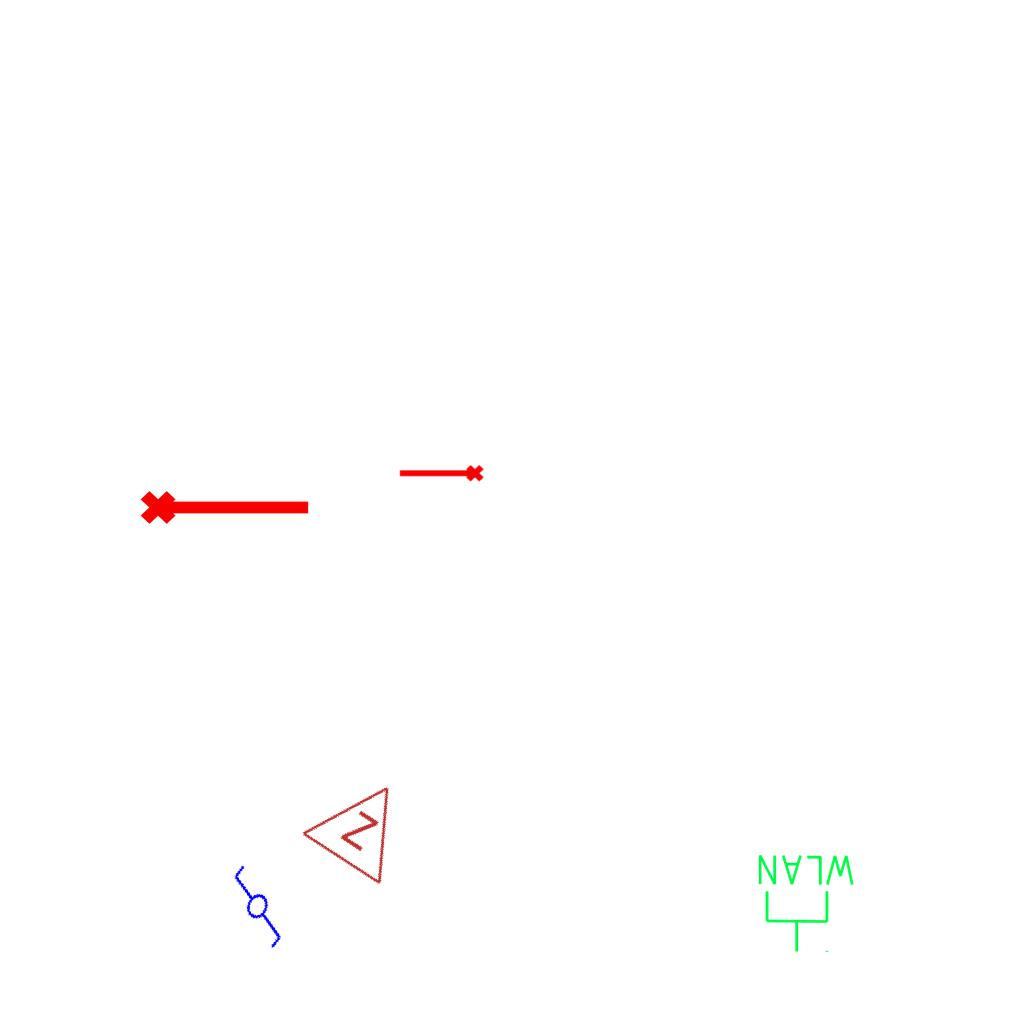ASR_Ansaugoeffnung: (138, 482, 314, 528), (397, 463, 485, 486)
WLAN: (754, 851, 859, 955)
Wechselschalter: (212, 853, 308, 953)
Zimmersignalleuchte: (294, 754, 432, 892)
